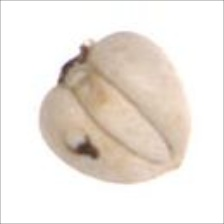L5: (71, 66, 174, 165), (56, 39, 97, 89)
L6: (37, 29, 193, 186)
